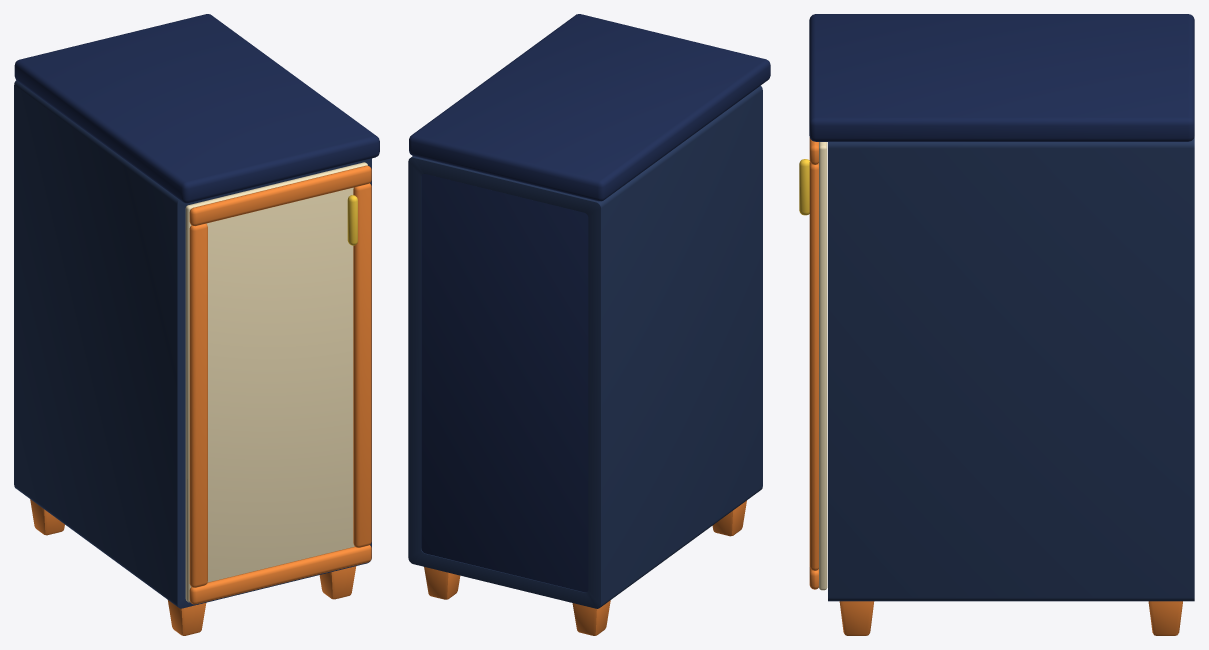
The model's file is armario_cozinha_base_1porta_grafite_noite.glb.
3 views of the same model, side by side, from view 1: azimuth 30°, elevation 25°; view 2: azimuth 150°, elevation 25°; view 3: azimuth 270°, elevation 25° (orthographic). The views are drawn at different scales.
Parts seen in each view (by area): view 1: armario_cozinha_base_1porta_grafite_noite, porta_1; view 2: armario_cozinha_base_1porta_grafite_noite; view 3: armario_cozinha_base_1porta_grafite_noite, porta_1.
Part boxes in pixels (box(x1,y1,x2,y2)): armario_cozinha_base_1porta_grafite_noite: box(14, 14, 379, 635); porta_1: box(185, 162, 371, 604); armario_cozinha_base_1porta_grafite_noite: box(408, 14, 770, 635); armario_cozinha_base_1porta_grafite_noite: box(809, 14, 1194, 635); porta_1: box(799, 137, 827, 590).
Bounding box in the file's own units: 0.398 × 0.9 × 0.6147.
1 material, 1 textured.
